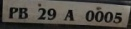character: (63, 8, 74, 22), (84, 9, 94, 22), (112, 11, 122, 24), (8, 6, 17, 20), (18, 6, 27, 20), (46, 8, 55, 21), (94, 10, 103, 23), (103, 11, 112, 24), (37, 7, 45, 20)
